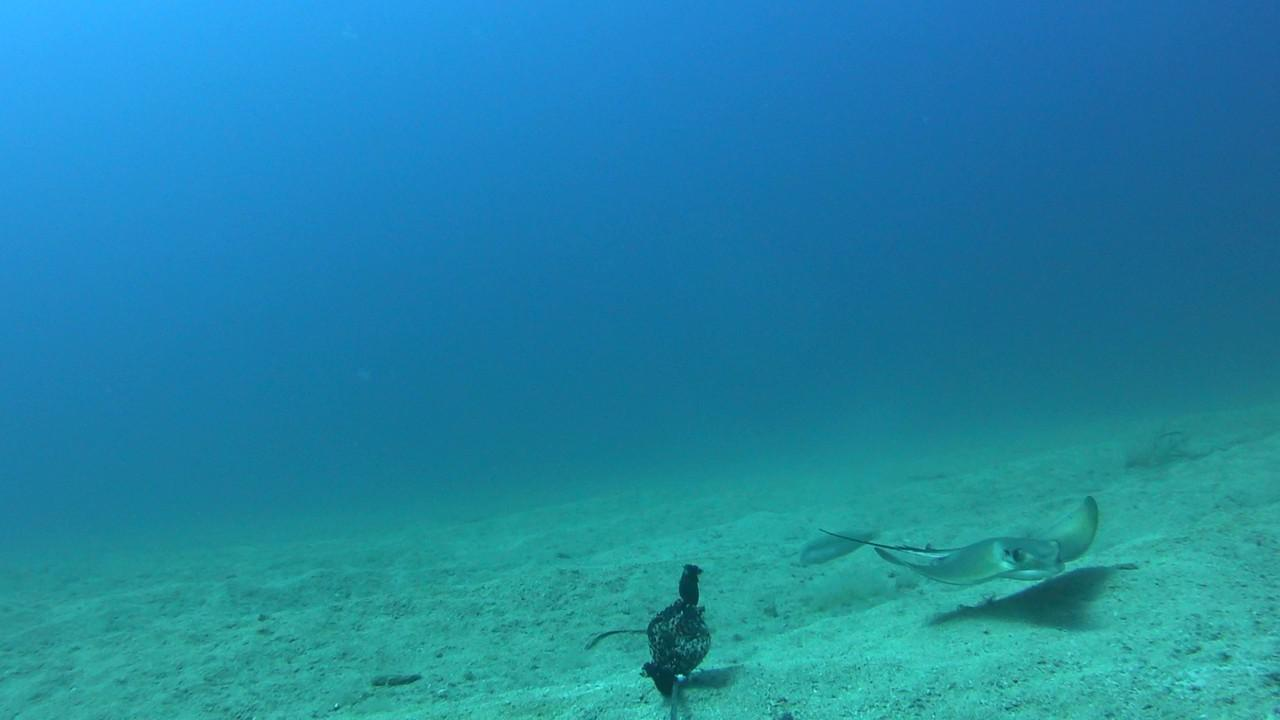myliobatis: (813, 496, 1125, 589)
raor: (799, 522, 886, 570)
